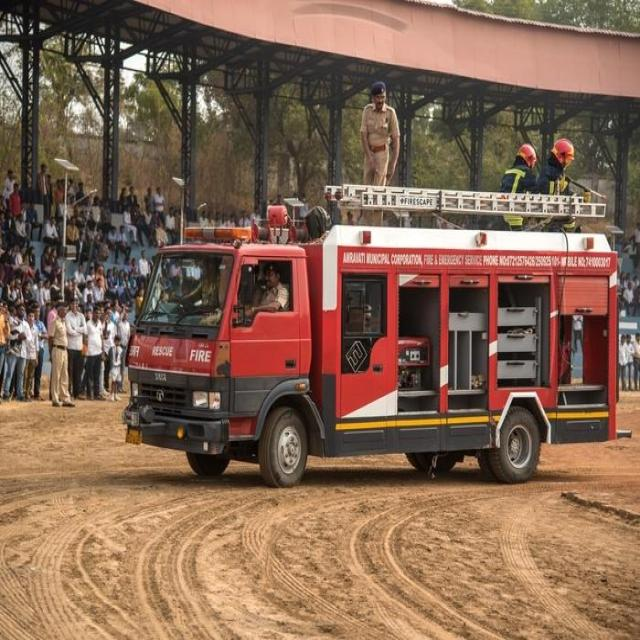emergency: (122, 185, 618, 486)
